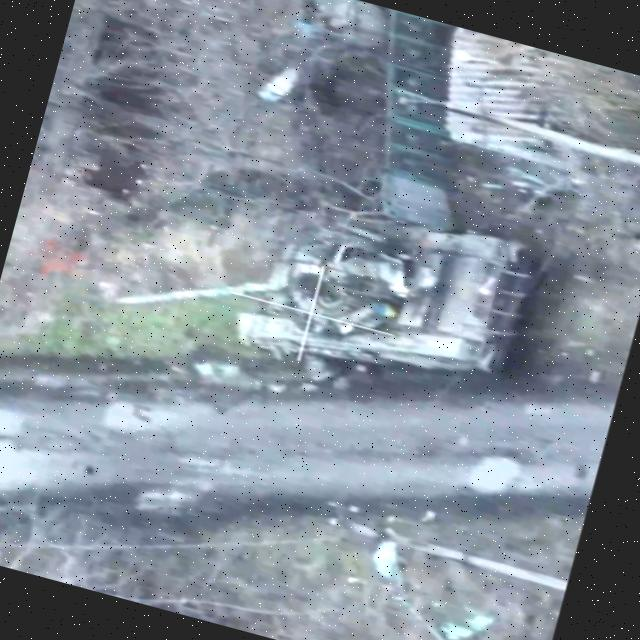MBT: (115, 148, 544, 412)
